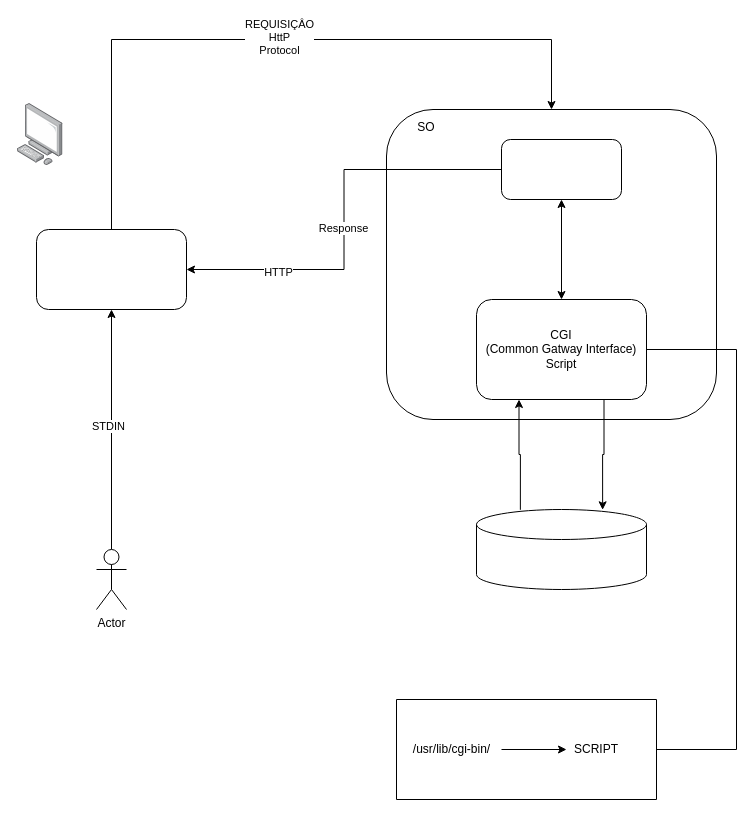
This 755x817 diagram has some shape labels left out. The centre of each missing label's shape, as x and y in pixels:
Apache module_CGI: the point at 561,169
Banco: the point at 561,549
